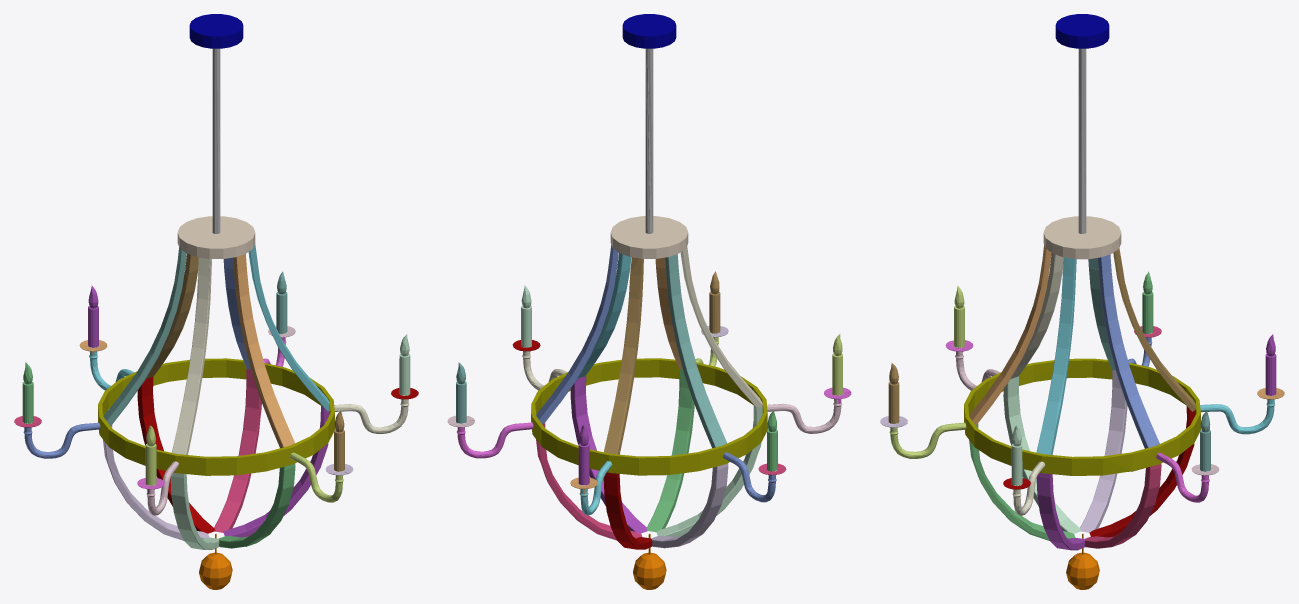
File: full_4.glb
The picture shows the model from 3 angles, left to right: view 1: azimuth 30°, elevation 25°; view 2: azimuth 150°, elevation 25°; view 3: azimuth 270°, elevation 25°; orthographic projection.
Parts seen in each view (by area): view 1: world; view 2: world; view 3: world.
Part boxes in pixels (<box>): world: <box>14,14,418,589</box>; world: <box>447,14,851,589</box>; world: <box>880,14,1284,589</box>.
Bounding box in the file's own units: 0.4629 × 0.7432 × 0.4831.
